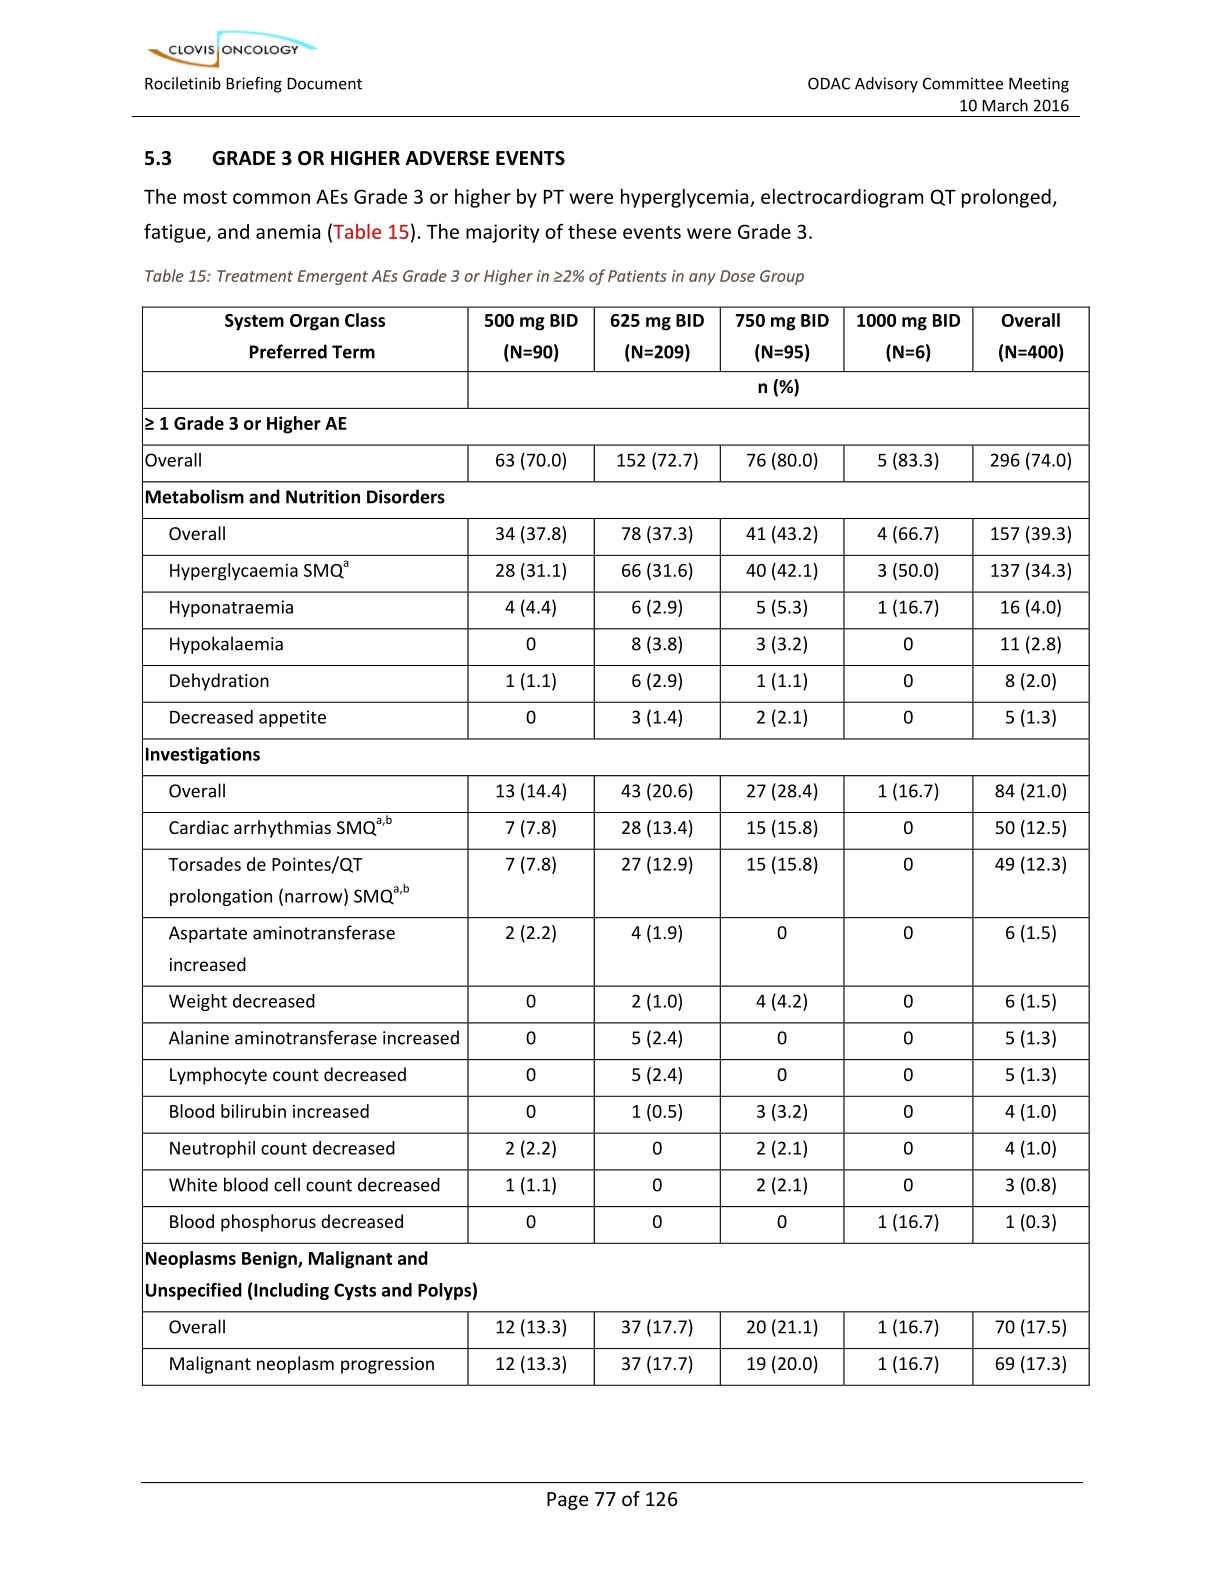merged_cells: (139, 303, 1092, 1389)
